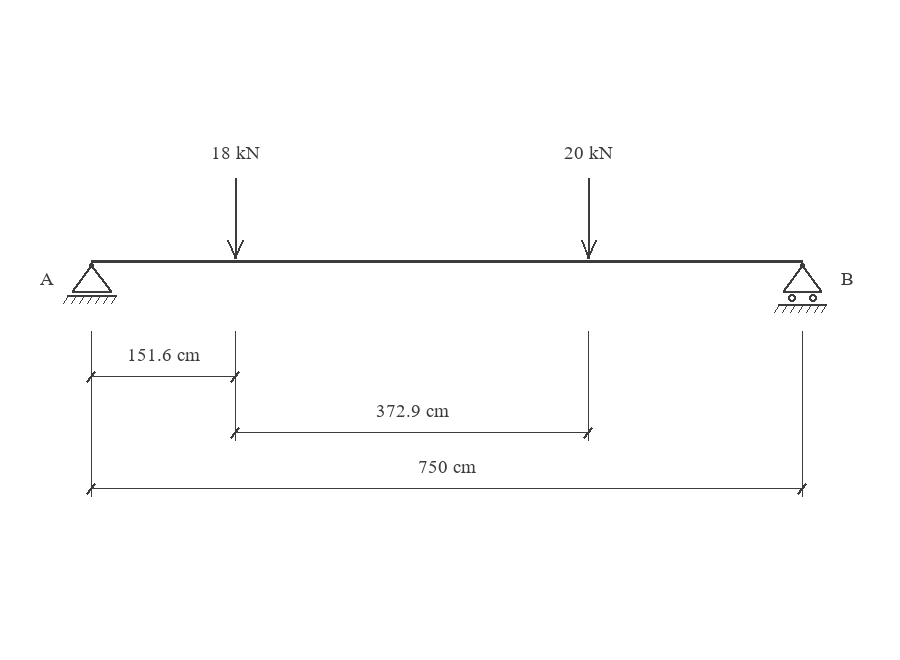pin_support: (63, 263, 117, 304)
point_load: (227, 178, 244, 259), (581, 178, 597, 259)
roller_support: (774, 263, 827, 313)
